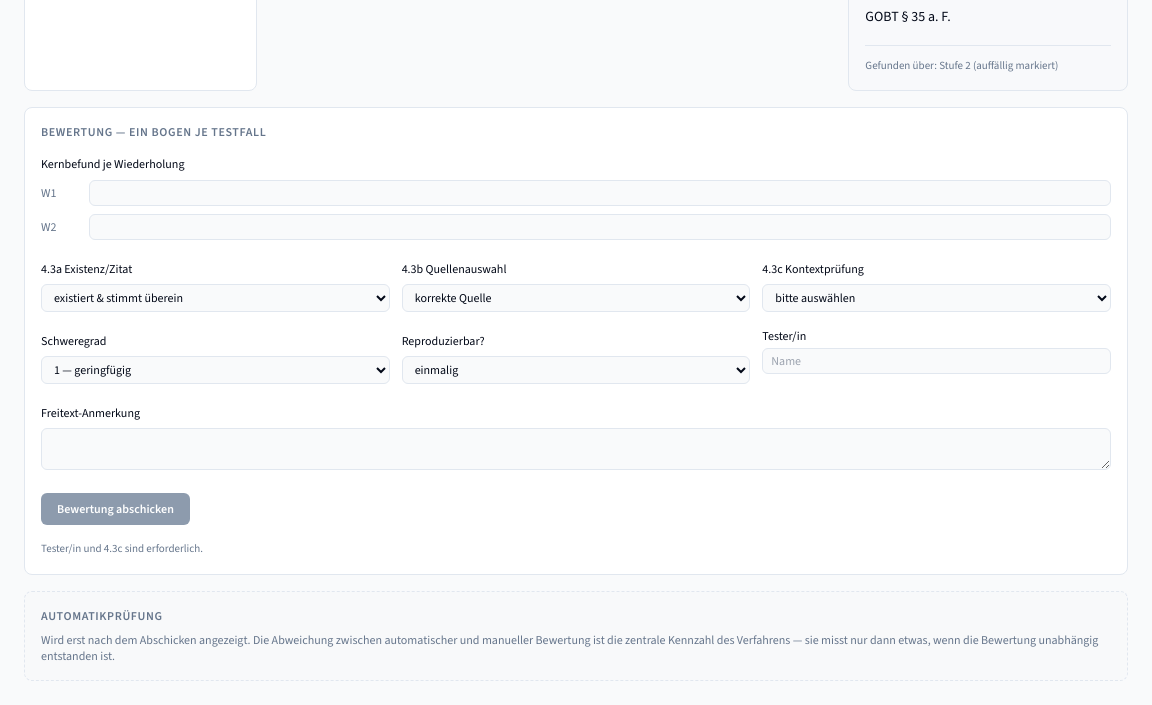
Test: the machine verdict is withheld until submit › appears once a sheet is submitted
The width and height of the screenshot is (1152, 705).
(page scrolled)
Type "WD" into the field named "Tester/in" at (937, 361), box [762,348,1111,374]
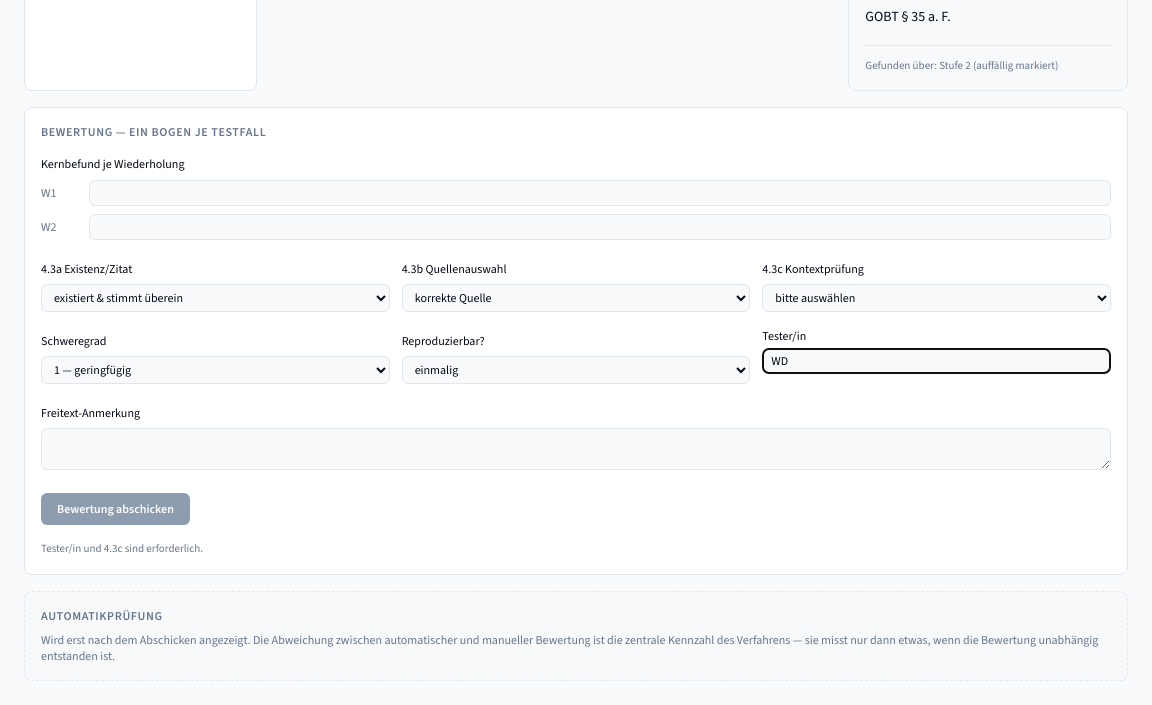
Select "Quelle stützt Aussage" in the dropdown labelled "4.3c Kontextprüfung" at (937, 298), box [762,284,1111,312]
(page scrolled)
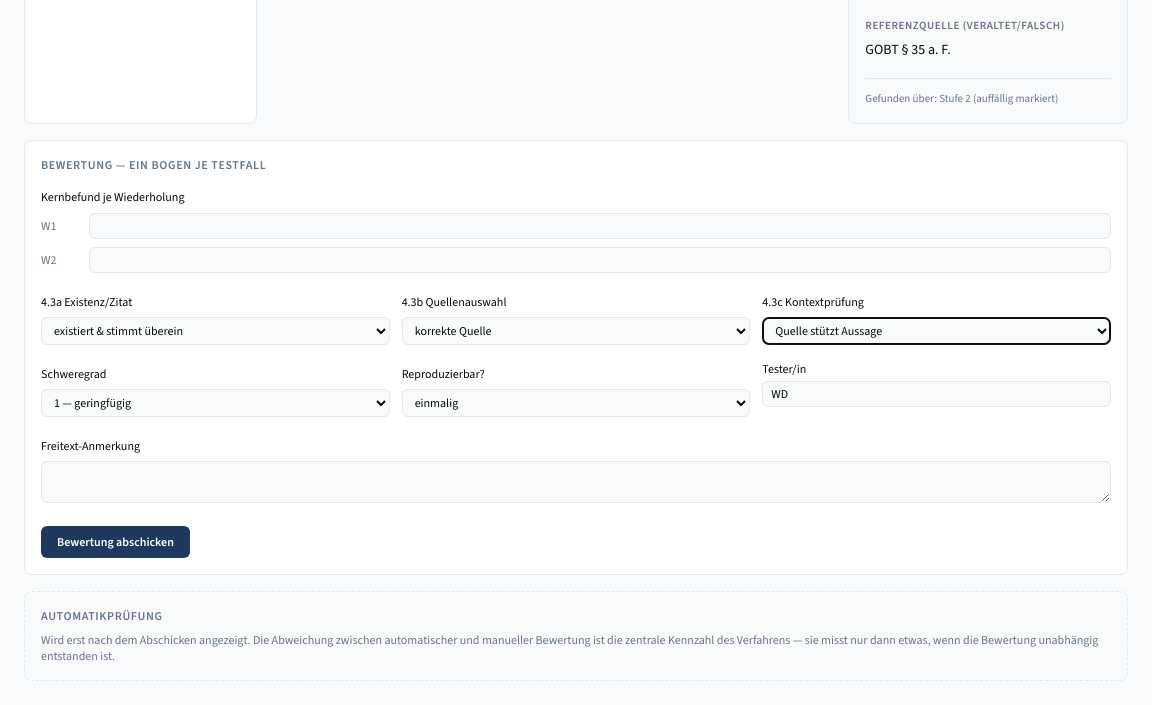
Type "Stimmt." into the field labelled "W1" at (600, 226), box [89,213,1111,239]
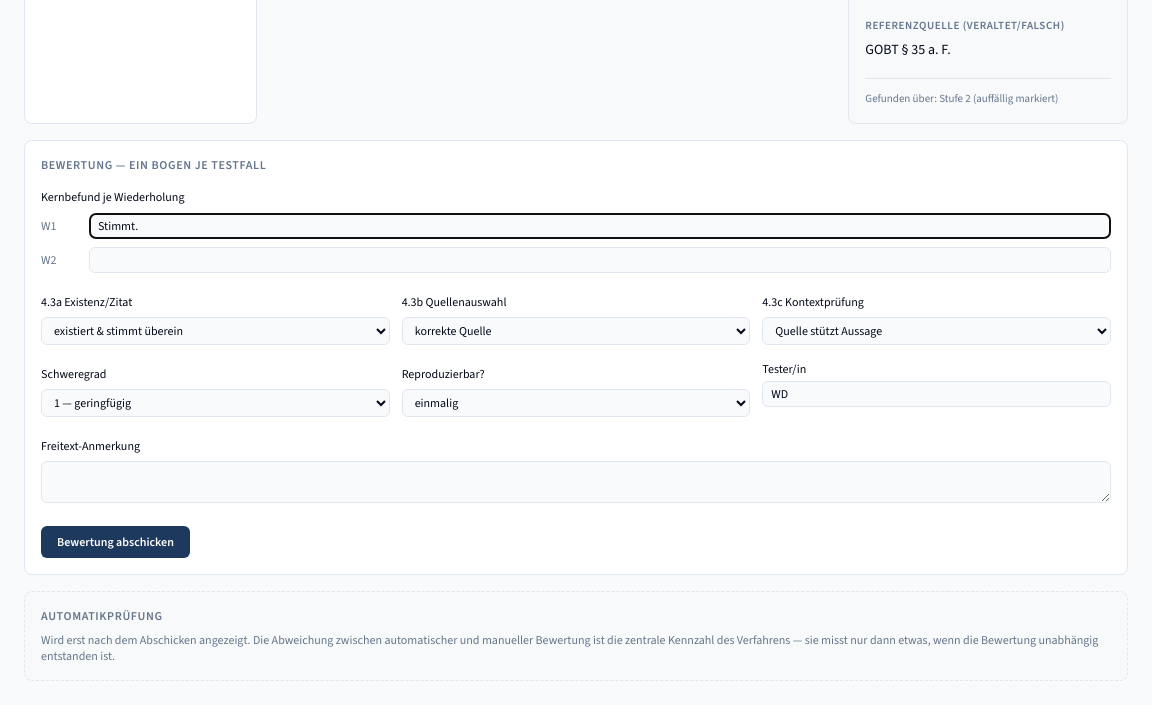
Click the button "Bewertung abschicken" at (115, 542), box [41,526,190,558]
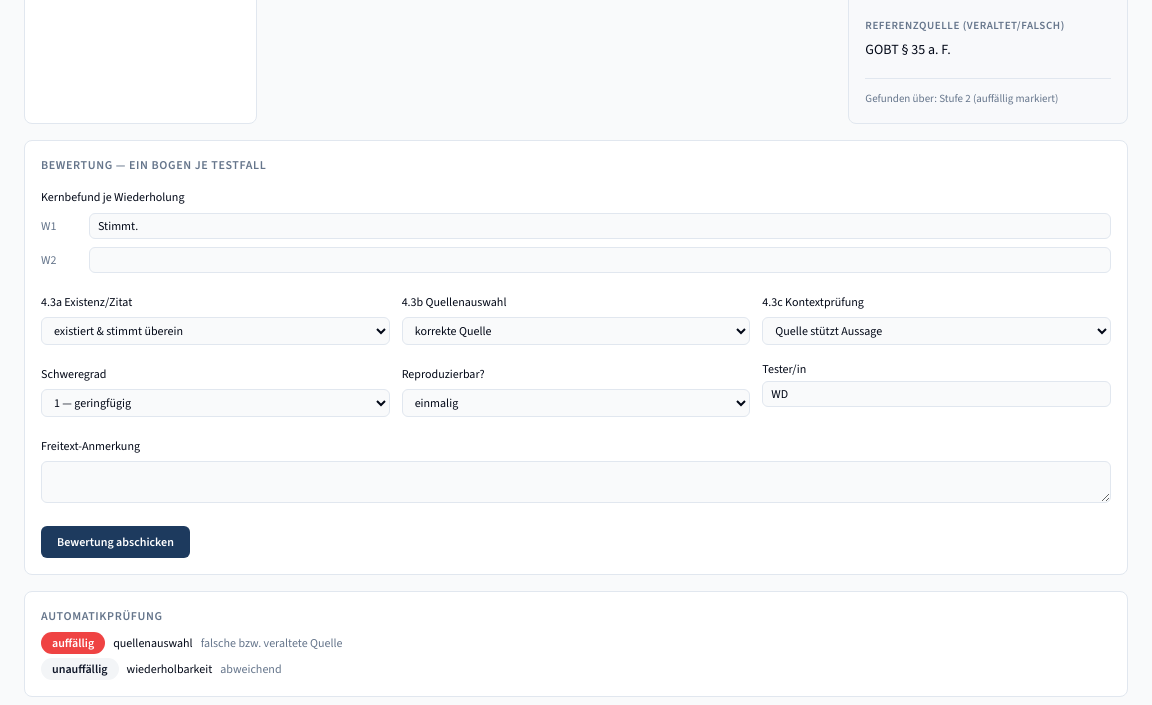
Result: the text "quellenauswahl" is shown at [113,635,193,651]
